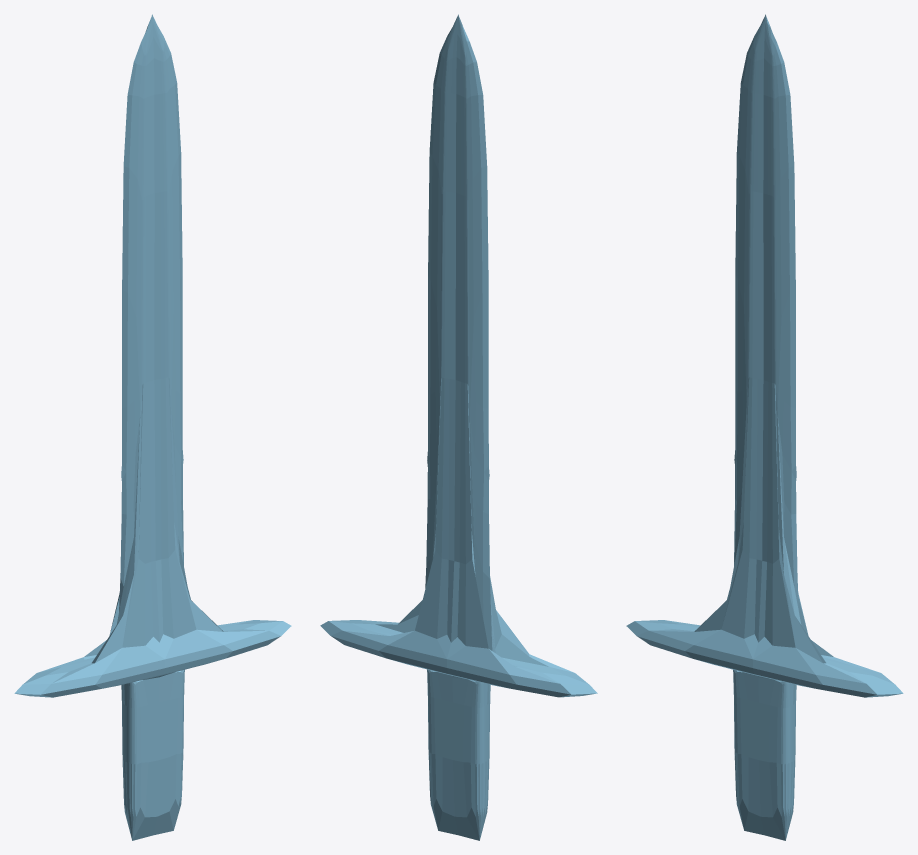
The model's file is ice_sword.fbx.
3 renders of one model, left to right at view 1: azimuth 30°, elevation 25°; view 2: azimuth 150°, elevation 25°; view 3: azimuth 330°, elevation 25°, orthographic.
Parts seen in each view (by area): view 1: IceSword; view 2: IceSword; view 3: IceSword.
Part boxes in pixels (box(x1,y1,x2,y2)): IceSword: box(14, 14, 291, 840); IceSword: box(320, 14, 597, 840); IceSword: box(626, 14, 903, 840).
Size of the model in its own units: 354 by 1000 by 53.12.
Materials: 1 (1 with a texture image).
